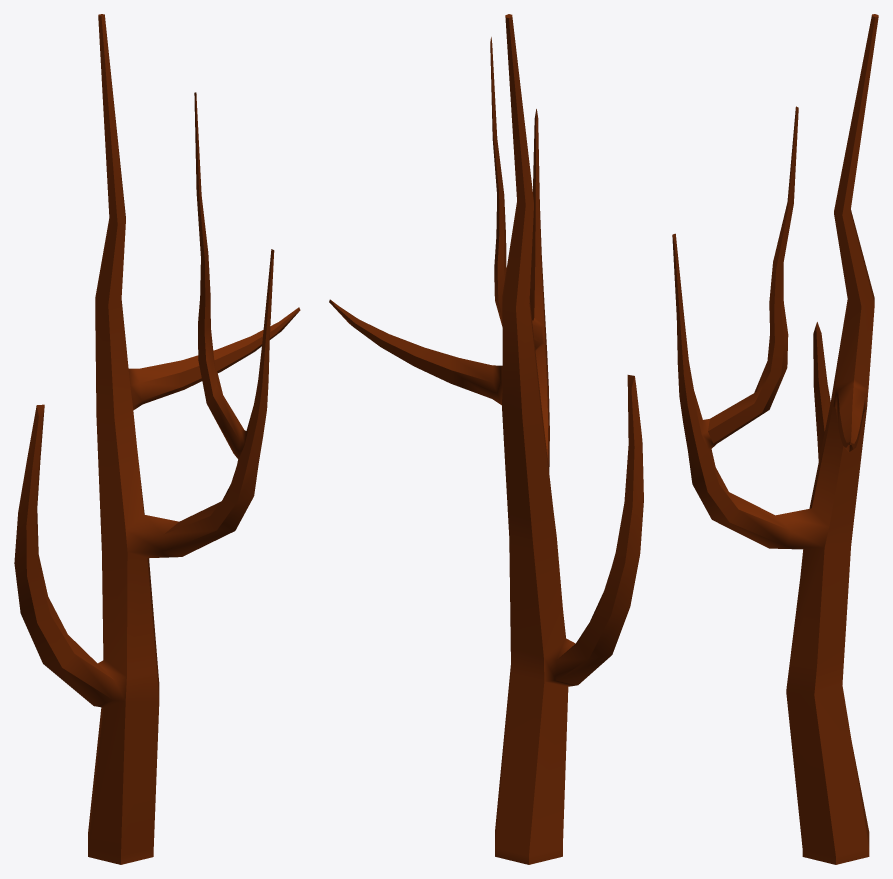
The model's file is TrunkBranch9.obj.
3 views of the same model, side by side, from view 1: azimuth 30°, elevation 25°; view 2: azimuth 150°, elevation 25°; view 3: azimuth 270°, elevation 25° (orthographic). The views are drawn at different scales.
Visible parts, largest first — view 1: Trunk; view 2: Trunk; view 3: Trunk.
Part boxes in pixels (x1,y1,x2,y2): Trunk: (14, 14, 300, 864); Trunk: (329, 14, 643, 864); Trunk: (672, 14, 878, 864).
Bounding box in the file's own units: 3.58 × 9.55 × 2.14.
